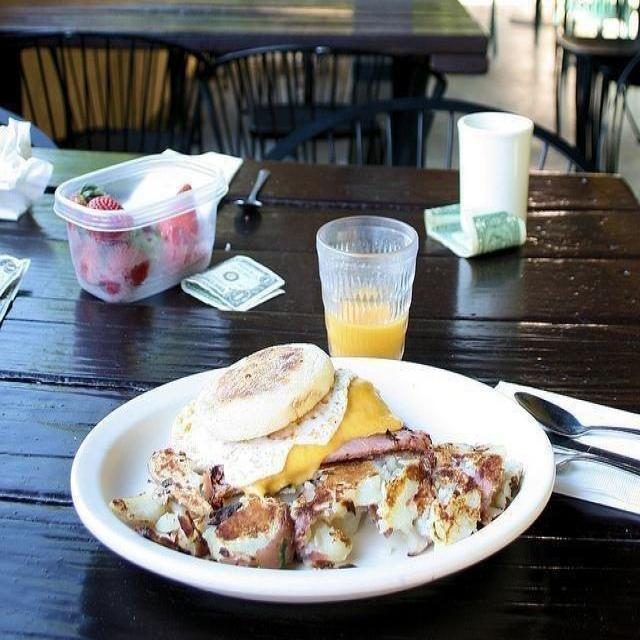cup-handle: (457, 110, 534, 232)
glass-normal: (315, 216, 420, 358)
